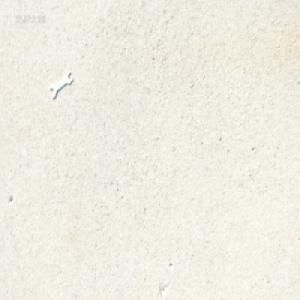Wrench: (48, 68, 71, 100)
